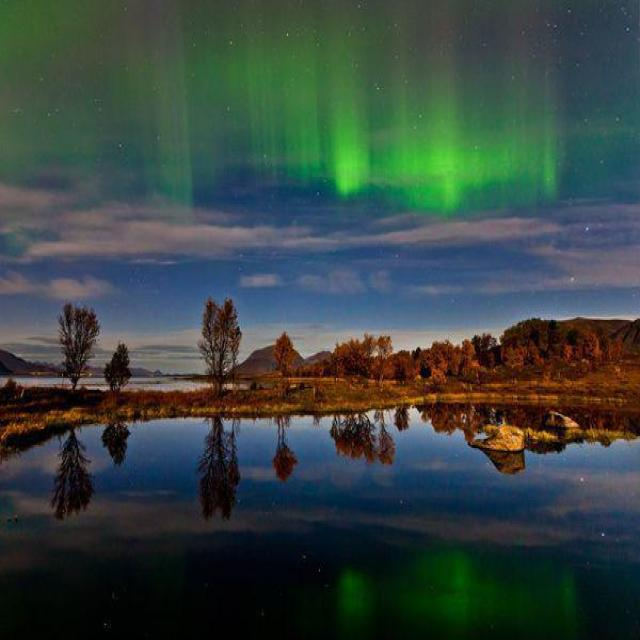other: (247, 73, 549, 220)
